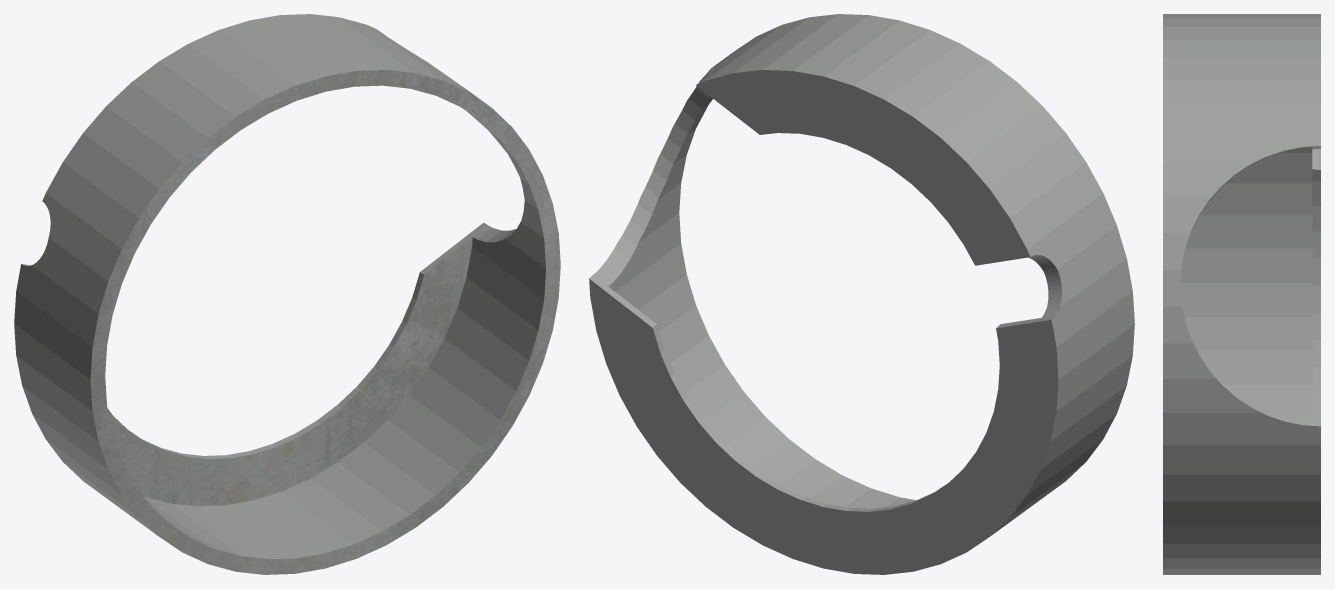
File: pool_016.obj
The picture shows the model from 3 angles, left to right: view 1: azimuth 30°, elevation 25°; view 2: azimuth 150°, elevation 25°; view 3: azimuth 270°, elevation 25°; orthographic projection. The views are drawn at different scales.
Size of the model in its own units: 32 by 32 by 9.
